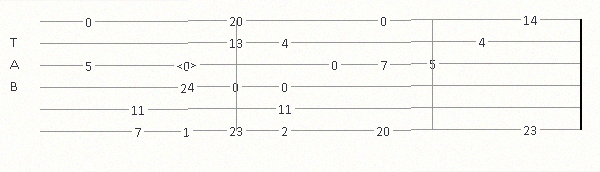0: (85, 14, 96, 27), (232, 80, 243, 93), (281, 80, 292, 93), (331, 58, 342, 71), (380, 14, 391, 27)
1: (183, 124, 194, 137)
11: (131, 102, 149, 115), (278, 102, 296, 115)
13: (229, 36, 247, 49)
14: (523, 14, 541, 27)
2: (281, 124, 292, 137)
20: (229, 14, 247, 27), (376, 124, 394, 137)
23: (229, 124, 247, 137), (523, 124, 541, 137)
24: (180, 80, 198, 93)
4: (281, 36, 292, 49), (478, 36, 489, 49)
5: (85, 58, 96, 71), (429, 58, 440, 71)
7: (134, 124, 145, 137), (380, 58, 391, 71)
harmonic: (176, 58, 201, 71)
